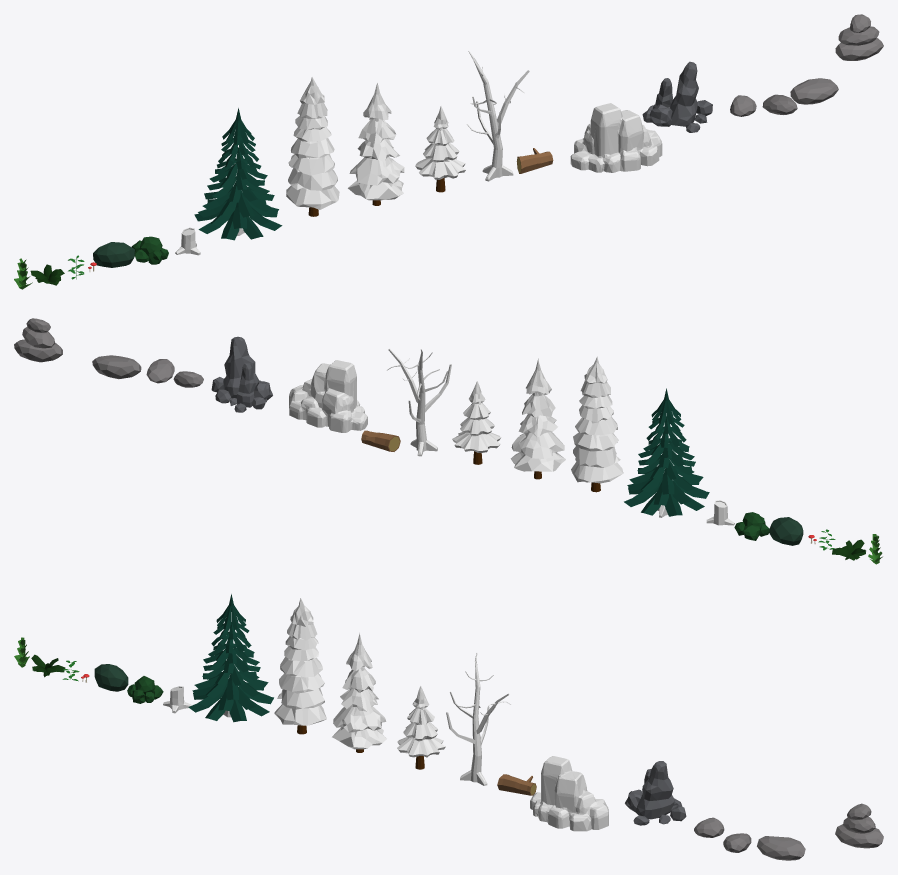
The model's file is Bosque.fbx.
The picture shows the model from 3 angles, top to bottom: view 1: azimuth 30°, elevation 25°; view 2: azimuth 150°, elevation 25°; view 3: azimuth 330°, elevation 25°; orthographic projection. The views are drawn at different scales.
Visible parts, largest first — view 1: arbol5, Arbol4, Piedra, arbol3, Piedras, Arbol2, Arbol1, piedtrasStack, piedra3, arbusto2, arbusto, tronco/log (+1 smaller); view 2: arbol5, Arbol4, Piedra, arbol3, Piedras, Arbol2, Arbol1, piedtrasStack, piedra3, arbusto2, arbusto, tronco/log (+1 smaller); view 3: arbol5, Arbol4, Piedra, arbol3, Piedras, Arbol2, Arbol1, piedtrasStack, piedra3, arbusto2, arbusto, tronco/log.
Boxes of the visible parts, x1,y1,x2,y2 form: arbol5: [194, 108, 282, 240]; Arbol4: [286, 77, 339, 216]; Piedra: [570, 103, 662, 172]; arbol3: [348, 83, 404, 205]; Piedras: [642, 61, 712, 132]; Arbol2: [415, 106, 465, 192]; Arbol1: [467, 51, 529, 181]; piedtrasStack: [835, 14, 883, 60]; piedra3: [790, 78, 838, 104]; arbusto2: [93, 242, 134, 267]; arbusto: [131, 236, 168, 264]; tronco/log: [516, 148, 553, 173]; arbol5: [624, 388, 709, 517]; Arbol4: [571, 356, 623, 492]; Piedra: [289, 360, 367, 432]; arbol3: [510, 358, 565, 479]; Piedras: [211, 336, 272, 412]; Arbol2: [452, 381, 500, 464]; Arbol1: [386, 348, 451, 456]; piedtrasStack: [14, 318, 62, 362]; piedra3: [92, 355, 141, 379]; arbusto2: [769, 517, 803, 545]; arbusto: [734, 512, 769, 540]; tronco/log: [361, 430, 400, 451]; arbol5: [188, 594, 273, 722]; Arbol4: [274, 598, 326, 734]; Piedra: [530, 756, 608, 831]; arbol3: [332, 633, 386, 752]; Piedras: [625, 761, 686, 825]; Arbol2: [397, 686, 445, 769]; Arbol1: [446, 653, 511, 785]; piedtrasStack: [835, 803, 883, 848]; piedra3: [757, 836, 805, 860]; arbusto2: [94, 664, 128, 691]; arbusto: [127, 676, 163, 703]; tronco/log: [497, 774, 536, 795].
Bounding box in the file's own units: 1618 × 261 × 174.
